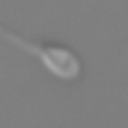normal: (1, 27, 42, 58)
